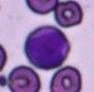M: (24, 25, 70, 70)
